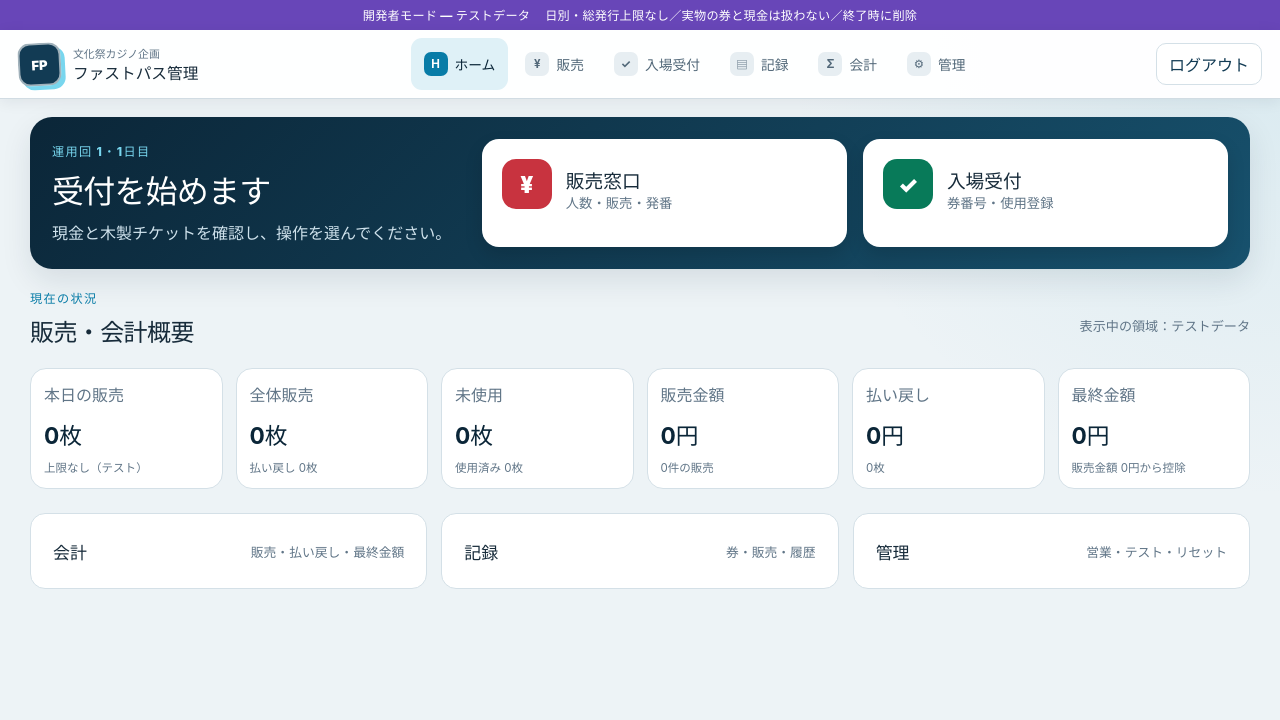
it: 複数端末と遅い状態取得 › 販売後に古い同期応答（200）が届いても集計や認証を巻き戻さない
The image size is (1280, 720).
Check: the heading "受付を始めます" is shown, box top-left (52, 172), bottom-right (270, 211)
Click the button "¥ 販売": (555, 64) top-left (512, 38), bottom-right (597, 90)
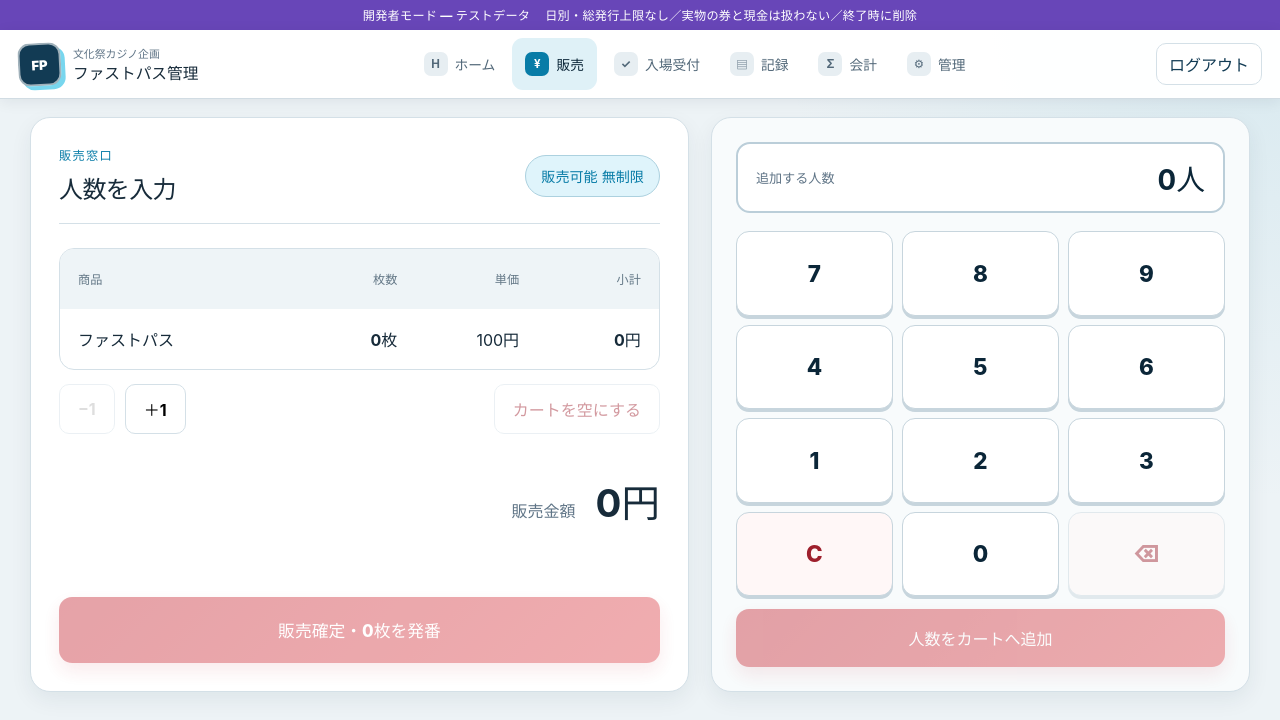
Click the button "＋1": (155, 409) top-left (125, 384), bottom-right (186, 434)
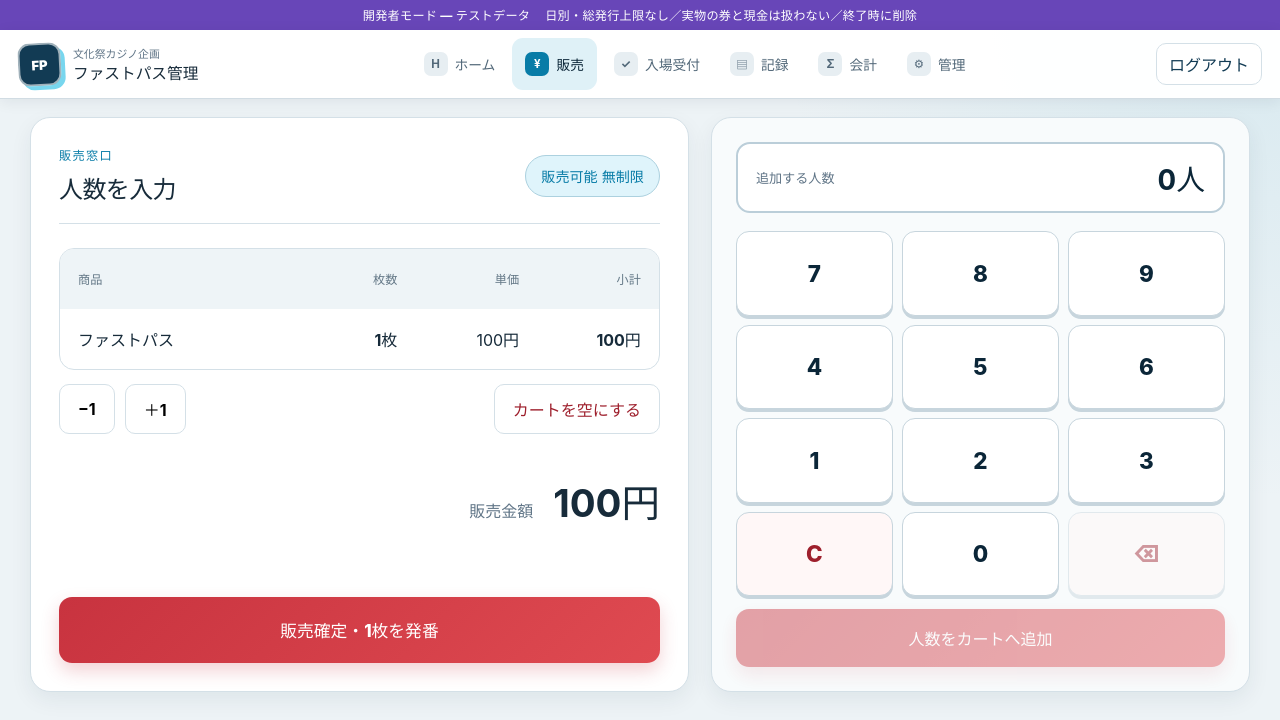
Click the button "販売確定・1枚を発番": (359, 630) top-left (59, 597), bottom-right (660, 663)
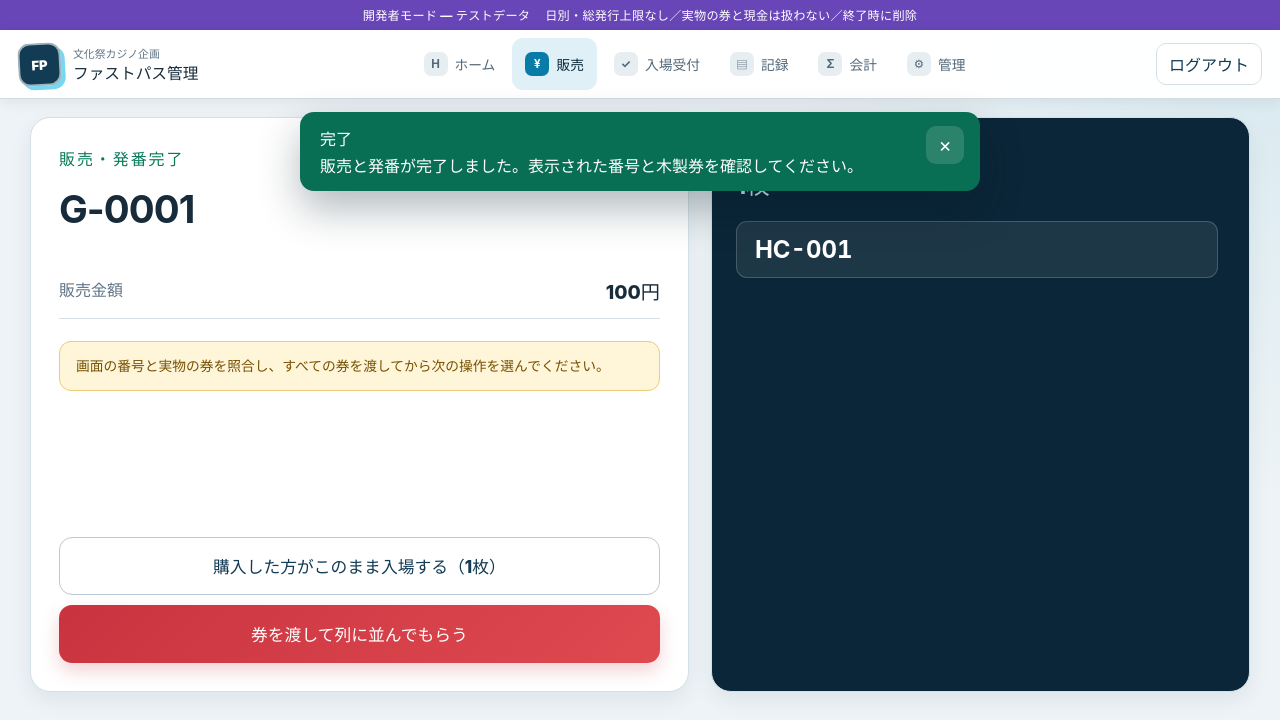
Check: the text "HC-001" is shown, box top-left (736, 221), bottom-right (1218, 278)
Click the button "H ホーム": (459, 64) top-left (410, 38), bottom-right (508, 90)
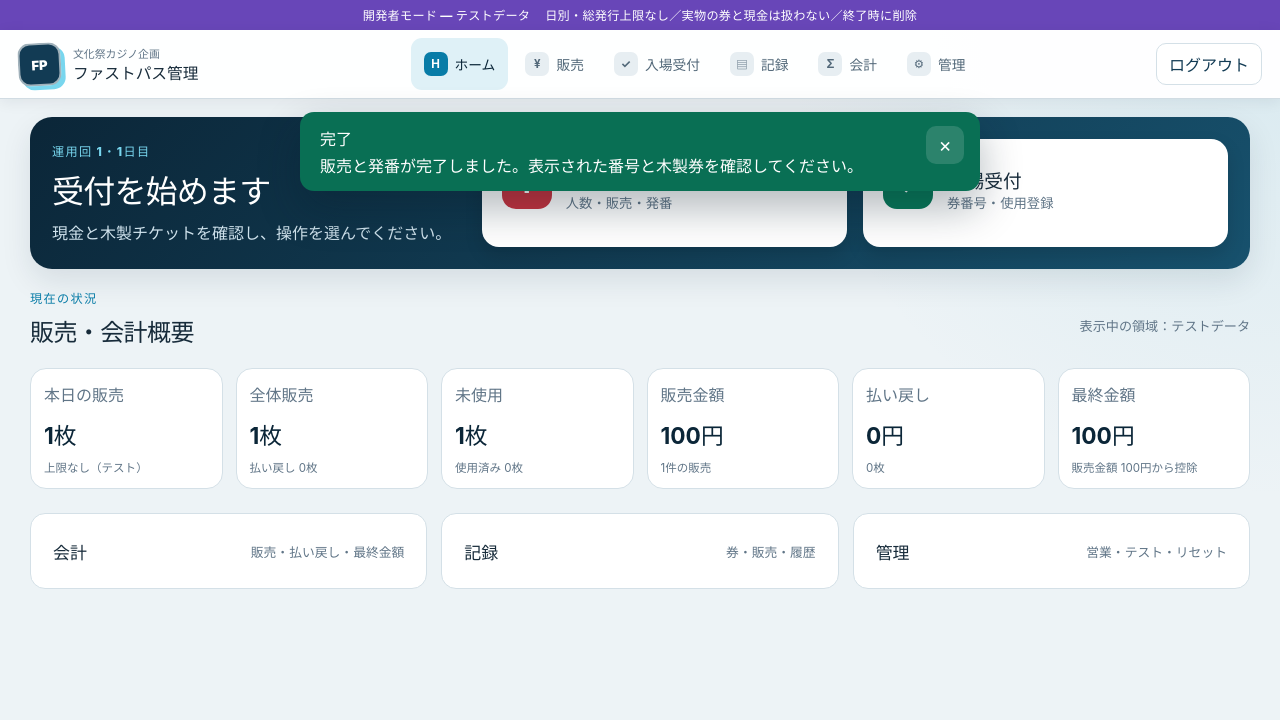
Check: the text "全体販売" shows "1枚", box top-left (250, 422), bottom-right (282, 449)
